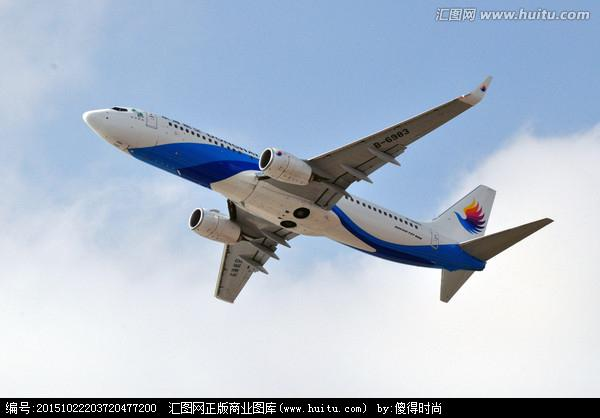airplane: (82, 74, 554, 303)
